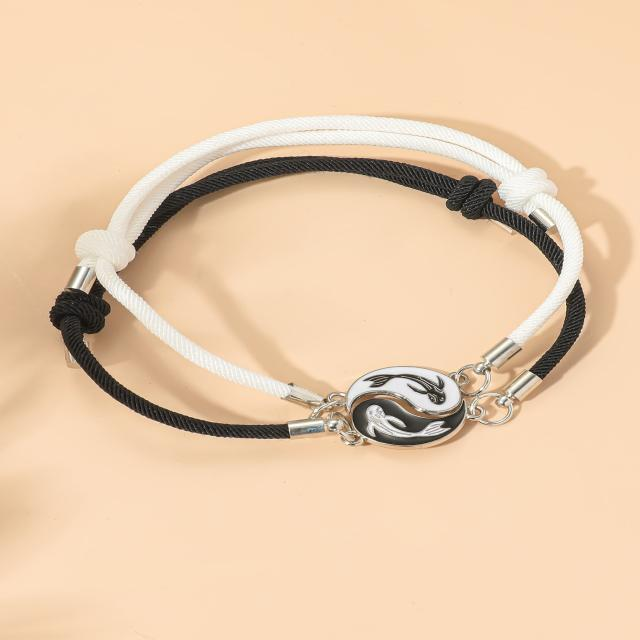bracelet: (6, 59, 640, 476)
